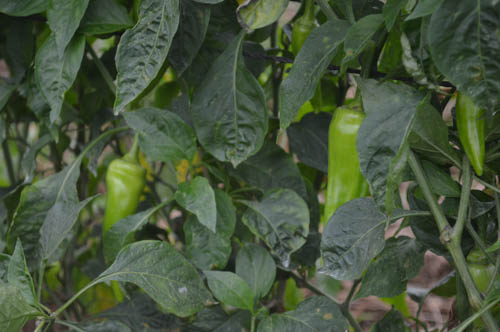ChiliPepper: (323, 106, 379, 216), (105, 161, 149, 237), (453, 97, 491, 179), (285, 19, 315, 58)
